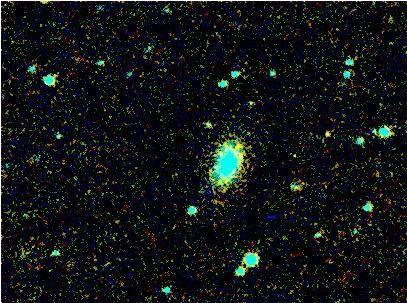star: (312, 118, 342, 148)
